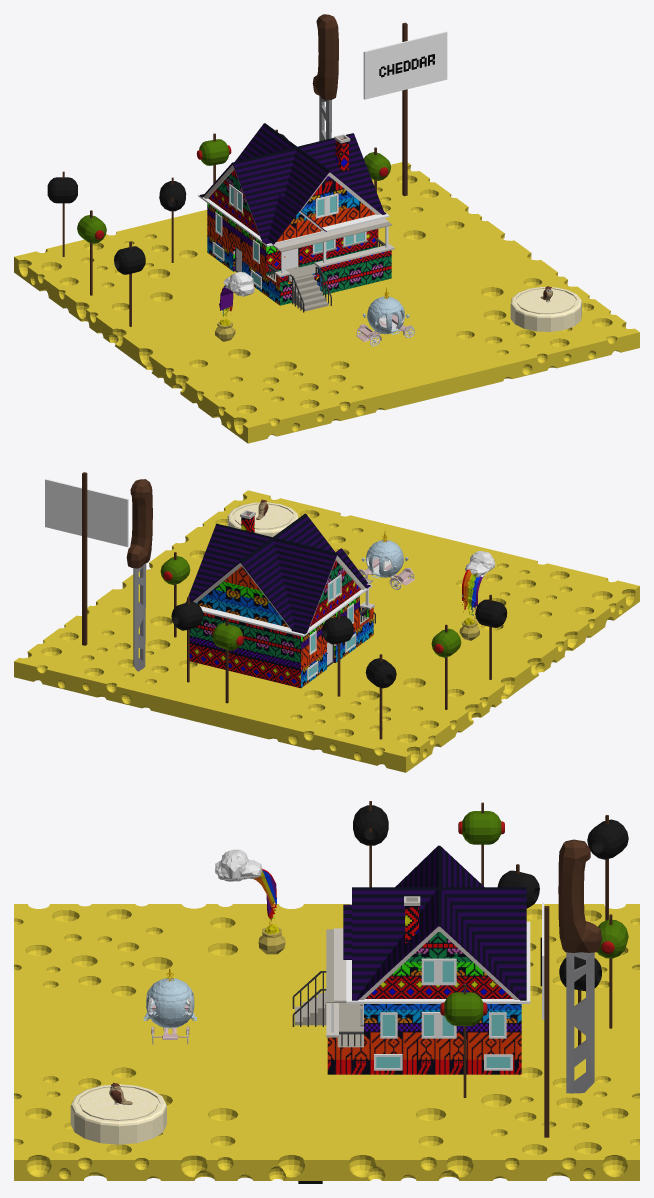
3 renders of one model, top to bottom at view 1: azimuth 30°, elevation 25°; view 2: azimuth 150°, elevation 25°; view 3: azimuth 270°, elevation 25°, orthographic. The views are drawn at different scales.
Parts seen in each view (by area): view 1: Cube.022, Cube.966, Cube.023, Cylinder.016, Cube.024, VEHICLES_FANTASY_CARRIAGE, OBJRANDOM_RAINBOW, Sphere.017, Sphere.016, Sphere.020, Sphere.018, Sphere.022 (+1 smaller); view 2: Cube.022, Cube.966, Cube.023, Cube.024, VEHICLES_FANTASY_CARRIAGE, OBJRANDOM_RAINBOW, Cylinder.016, Sphere.020, Sphere.016, Sphere.022, Sphere.017, Sphere.021 (+2 smaller); view 3: Cube.022, Cube.966, Cube.024, Cylinder.016, VEHICLES_FANTASY_CARRIAGE, OBJRANDOM_RAINBOW, Cube.023, Sphere.019, Sphere.016, Sphere.018, Sphere.017, Sphere.022 (+2 smaller).
Boxes of the visible parts, box(x1,y1,x2,y2) form: Cube.022: box(14, 162, 639, 443); Cube.966: box(198, 123, 394, 312); Cube.023: box(363, 22, 447, 196); Cylinder.016: box(510, 287, 581, 331); Cube.024: box(312, 14, 338, 141); VEHICLES_FANTASY_CARRIAGE: box(356, 287, 414, 346); OBJRANDOM_RAINBOW: box(215, 272, 254, 341); Sphere.017: box(114, 241, 145, 326); Sphere.016: box(47, 171, 77, 256); Sphere.020: box(159, 177, 186, 262); Sphere.018: box(77, 210, 106, 295); Sphere.022: box(196, 133, 231, 183); Cube.022: box(14, 490, 639, 772); Cube.966: box(185, 510, 375, 688); Cube.023: box(45, 472, 128, 645); Cube.024: box(126, 479, 152, 671); VEHICLES_FANTASY_CARRIAGE: box(358, 530, 414, 589); OBJRANDOM_RAINBOW: box(459, 551, 495, 640); Cylinder.016: box(227, 502, 298, 537); Sphere.020: box(322, 611, 353, 696); Sphere.016: box(365, 654, 396, 739); Sphere.022: box(212, 618, 243, 703); Sphere.017: box(475, 594, 507, 679); Sphere.021: box(171, 597, 203, 682); Cube.022: box(14, 904, 639, 1180); Cube.966: box(292, 845, 530, 1074); Cube.024: box(558, 839, 601, 1093); Cylinder.016: box(70, 1084, 166, 1144); VEHICLES_FANTASY_CARRIAGE: box(143, 965, 196, 1044); OBJRANDOM_RAINBOW: box(215, 849, 285, 954); Cube.023: box(540, 902, 549, 1137); Sphere.019: box(440, 984, 487, 1097); Sphere.016: box(587, 815, 628, 920); Sphere.018: box(458, 802, 504, 885); Sphere.017: box(353, 801, 388, 887); Sphere.022: box(597, 914, 628, 1028).
Bounding box in the file's own units: 3917 × 2015 × 4000.
Materials: 41 (7 with a texture image).
